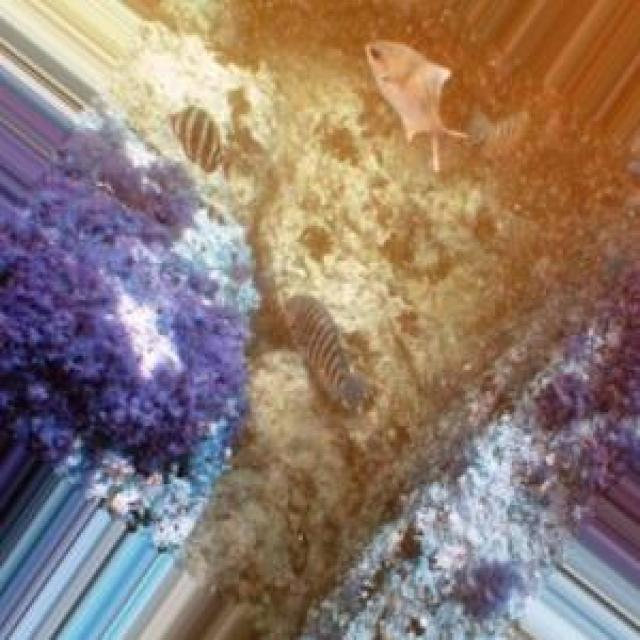Healthy: (1, 103, 259, 534)
